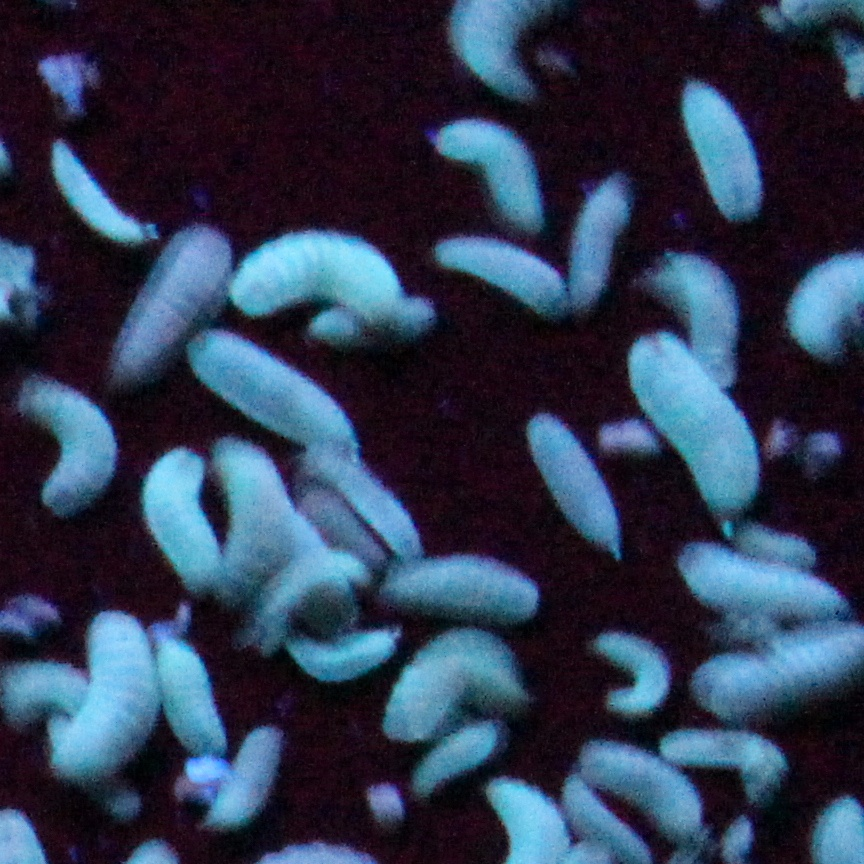larve: (617, 326, 775, 534), (47, 588, 155, 785), (225, 216, 407, 327), (420, 218, 581, 331), (511, 409, 630, 559), (430, 106, 552, 244), (34, 127, 161, 259), (673, 72, 776, 224), (25, 373, 119, 524), (561, 168, 632, 318), (150, 632, 232, 755), (594, 616, 680, 724), (202, 726, 284, 837), (281, 627, 411, 691)
